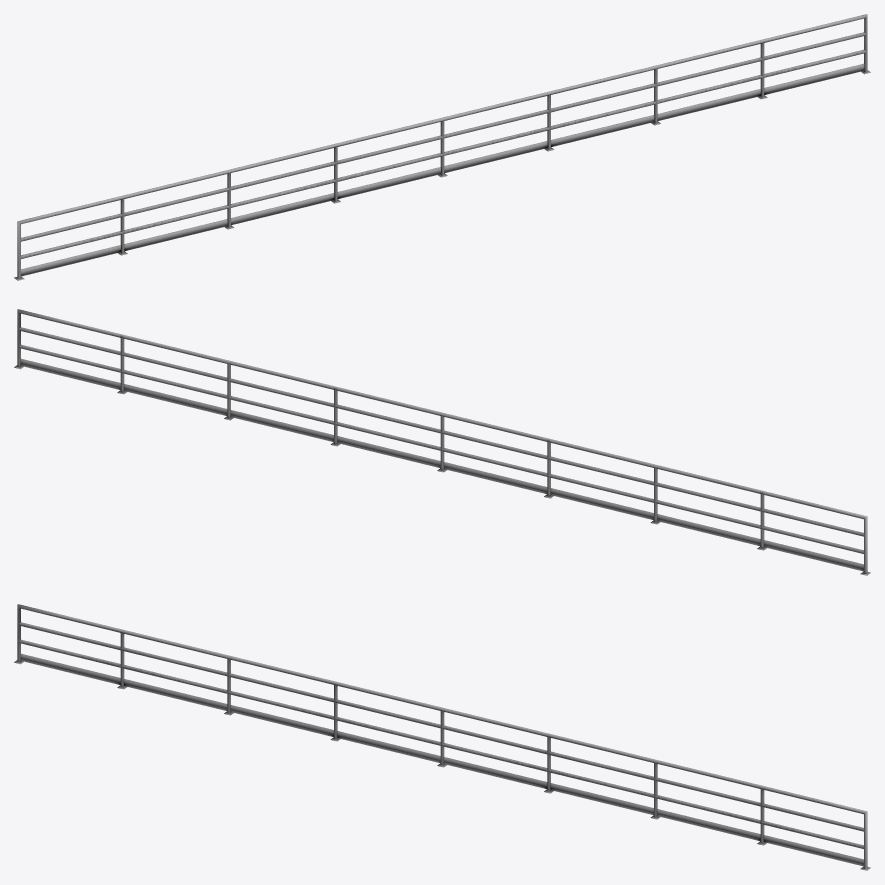
3 renders of one model, top to bottom at view 1: azimuth 30°, elevation 25°; view 2: azimuth 150°, elevation 25°; view 3: azimuth 330°, elevation 25°, orthographic.
Visible parts, largest first — view 1: body0_model0_lod0_mesh0; view 2: body0_model0_lod0_mesh0; view 3: body0_model0_lod0_mesh0.
Boxes of the visible parts, x1=… form: body0_model0_lod0_mesh0: x1=14, y1=14, x2=870, y2=280; body0_model0_lod0_mesh0: x1=14, y1=309, x2=870, y2=575; body0_model0_lod0_mesh0: x1=14, y1=604, x2=870, y2=870.
Size of the model in its own units: 512 by 33 by 4.
Materials: 1 (1 with a texture image).
